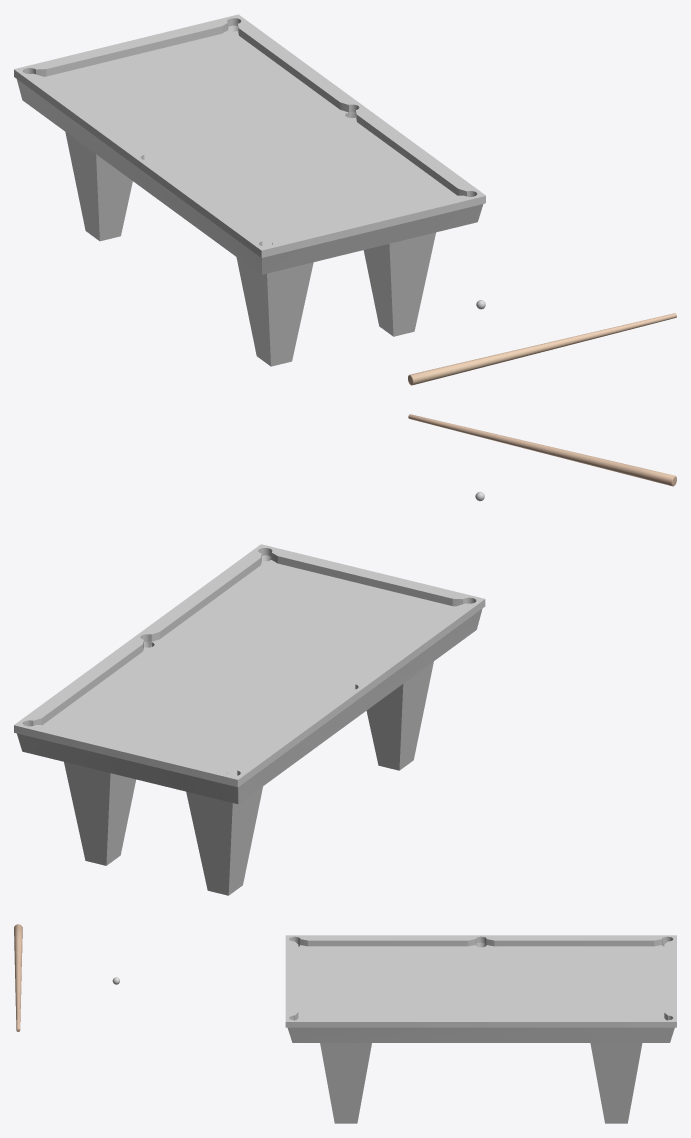
File: pool.fbx
3 views of the same model, one above another, from view 1: azimuth 30°, elevation 25°; view 2: azimuth 150°, elevation 25°; view 3: azimuth 270°, elevation 25° (orthographic). The views are drawn at different scales.
Parts seen in each view (by area): view 1: pool_table, pool_cue; view 2: pool_table, pool_cue; view 3: pool_table, pool_cue.
Part boxes in pixels (bbox=[...]): pool_table: bbox=[14, 14, 485, 366]; pool_cue: bbox=[408, 313, 676, 385]; pool_table: bbox=[14, 544, 485, 895]; pool_cue: bbox=[408, 414, 676, 486]; pool_table: bbox=[285, 935, 676, 1123]; pool_cue: bbox=[14, 924, 22, 1031].
Bounding box in the file's own units: 130 × 71.5 × 356.
Materials: 1 (1 with a texture image).
